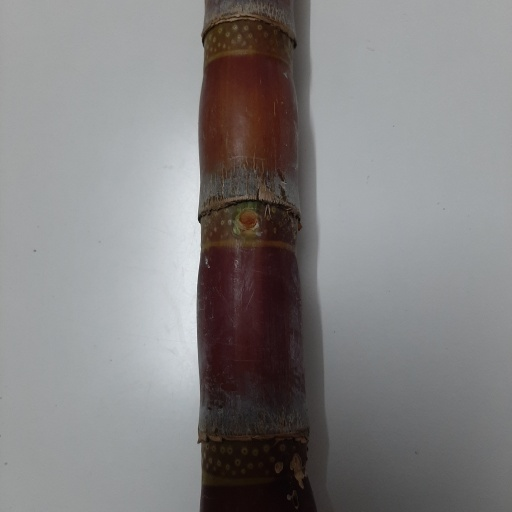Damage_Bud: (237, 207, 260, 235)
